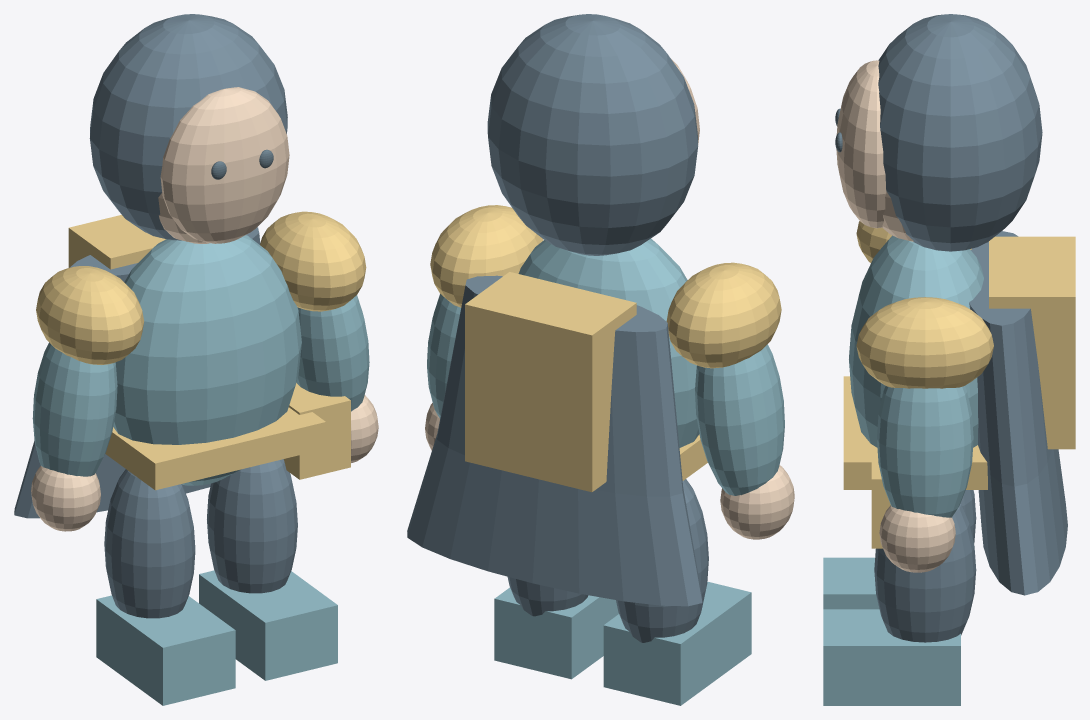
The picture shows the model from 3 angles, left to right: view 1: azimuth 30°, elevation 25°; view 2: azimuth 150°, elevation 25°; view 3: azimuth 270°, elevation 25°; orthographic projection. The views are drawn at different scales.
Parts seen in each view (by area): view 1: Torso, Capuz, Rosto visível, Jambe, Botte.001, Jambe.001, Botte, Bras.001, Épaule, Cinto, Épaule.001, Bras (+6 smaller); view 2: Capa de viagem, Capuz, Sac à dos, Botte.001, Bras.001, Épaule, Torso, Botte, Épaule.001, Jambe, Main, Bras (+2 smaller); view 3: Capuz, Capa de viagem, Sac à dos, Bras, Botte, Épaule.001, Torso, Jambe.001, Rosto visível, Main.001, Cinto, Botte.001 (+4 smaller).
Part boxes in pixels (left/top/right/bottom): Torso: left=113, top=235, right=301, bottom=485; Capuz: left=89, top=14, right=287, bottom=240; Rosto visível: left=160, top=87, right=289, bottom=243; Jambe: left=104, top=469, right=195, bottom=618; Botte.001: left=96, top=595, right=235, bottom=705; Jambe.001: left=207, top=459, right=297, bottom=593; Botte: left=199, top=570, right=337, bottom=680; Bras.001: left=32, top=342, right=117, bottom=476; Épaule: left=36, top=266, right=144, bottom=364; Cinto: left=105, top=407, right=325, bottom=490; Épaule.001: left=260, top=211, right=366, bottom=311; Bras: left=296, top=295, right=369, bottom=411; Capa de viagem: left=407, top=275, right=702, bottom=606; Capuz: left=487, top=14, right=698, bottom=255; Sac à dos: left=465, top=272, right=636, bottom=492; Botte.001: left=603, top=581, right=751, bottom=705; Bras.001: left=695, top=344, right=784, bottom=495; Épaule: left=666, top=262, right=781, bottom=368; Torso: left=518, top=238, right=699, bottom=447; Botte: left=494, top=587, right=618, bottom=679; Épaule.001: left=430, top=205, right=543, bottom=307; Jambe: left=616, top=479, right=708, bottom=642; Main: left=720, top=465, right=794, bottom=539; Bras: left=427, top=294, right=460, bottom=418; Capuz: left=878, top=14, right=1042, bottom=251; Capa de viagem: left=969, top=231, right=1067, bottom=595; Sac à dos: left=989, top=236, right=1075, bottom=449; Bras: left=877, top=386, right=973, bottom=517; Botte: left=823, top=609, right=960, bottom=705; Épaule.001: left=856, top=297, right=993, bottom=388; Torso: left=849, top=235, right=983, bottom=447; Jambe.001: left=874, top=503, right=976, bottom=642; Rosto visível: left=836, top=60, right=886, bottom=228; Main.001: left=879, top=505, right=955, bottom=572; Cinto: left=843, top=376, right=987, bottom=489; Botte.001: left=823, top=557, right=879, bottom=609.
Bounding box in the file's own units: 1.58 × 2.77 × 0.99.
